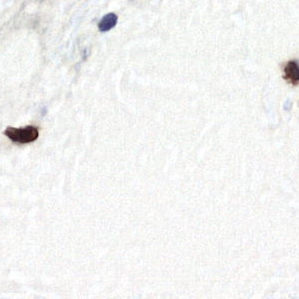Lymphocyte: (3, 122, 41, 143)
